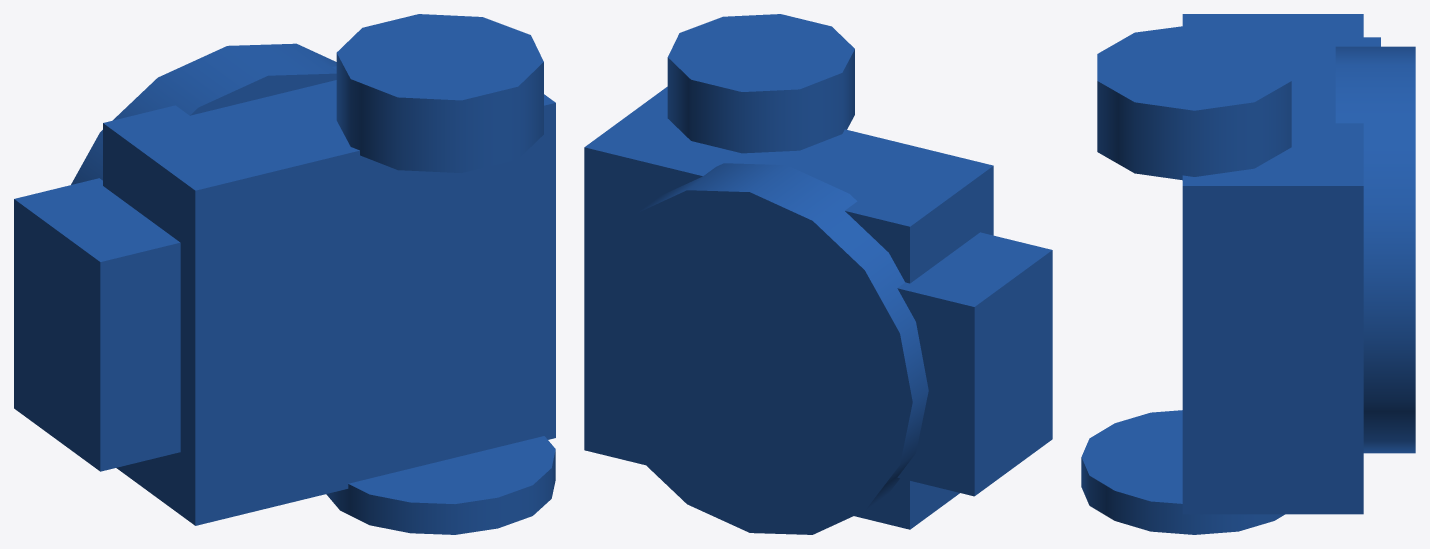
File: arm_loader_turret.obj
3 views of the same model, side by side, from view 1: azimuth 30°, elevation 25°; view 2: azimuth 150°, elevation 25°; view 3: azimuth 270°, elevation 25° (orthographic). The views are drawn at different scales.
Visible parts, largest first — view 1: machine_blue; view 2: machine_blue; view 3: machine_blue.
Boxes of the visible parts, <box> form: machine_blue: <box>14,14,555,534</box>; machine_blue: <box>584,14,1052,534</box>; machine_blue: <box>1081,14,1415,534</box>.
Bounding box in the file's own units: 0.374 × 0.348 × 0.251.
